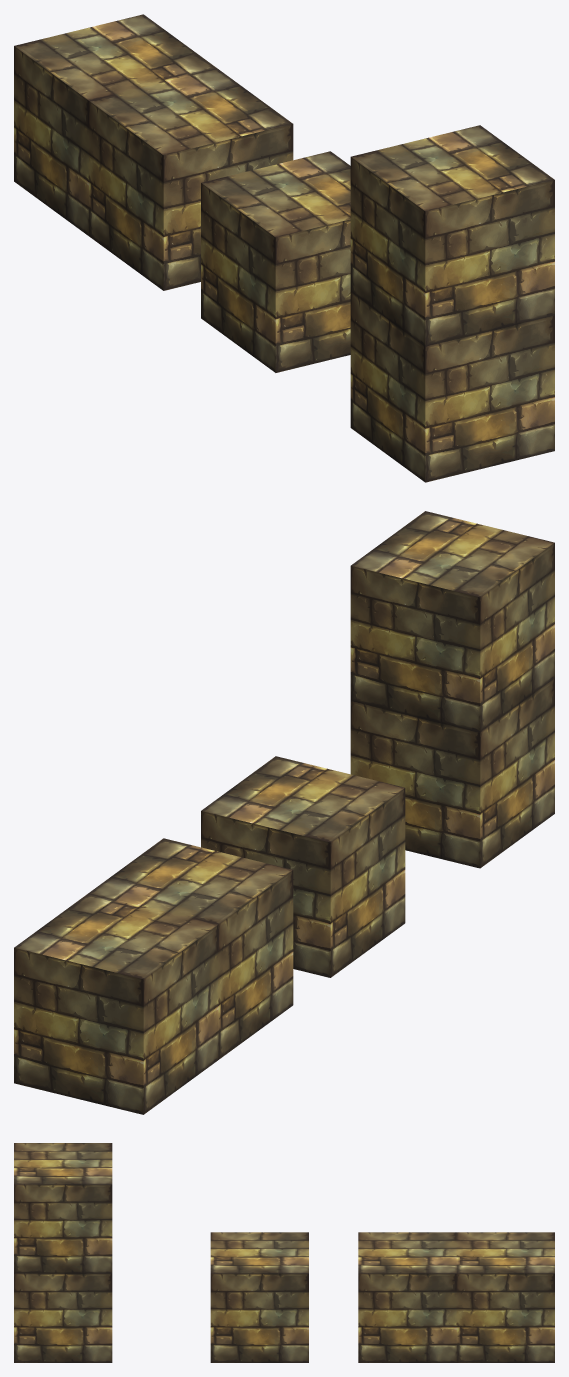
Rendered from CubesBricks.glb.
3 views of the same model, one above another, from view 1: azimuth 30°, elevation 25°; view 2: azimuth 150°, elevation 25°; view 3: azimuth 270°, elevation 25° (orthographic). The views are drawn at different scales.
Parts seen in each view (by area): view 1: Cube.001, Cube.002, Cube; view 2: Cube.001, Cube.002, Cube; view 3: Cube.002, Cube.001, Cube.
Part boxes in pixels (bbox=[...]): Cube.001: bbox=[350, 125, 554, 482]; Cube.002: bbox=[14, 14, 293, 290]; Cube: bbox=[201, 151, 350, 372]; Cube.001: bbox=[350, 511, 554, 868]; Cube.002: bbox=[14, 838, 293, 1114]; Cube: bbox=[201, 756, 405, 977]; Cube.002: bbox=[358, 1232, 554, 1362]; Cube.001: bbox=[14, 1143, 112, 1362]; Cube: bbox=[210, 1232, 308, 1362].
Bounding box in the file's own units: 2 × 4 × 11.
Materials: 1 (1 with a texture image).
